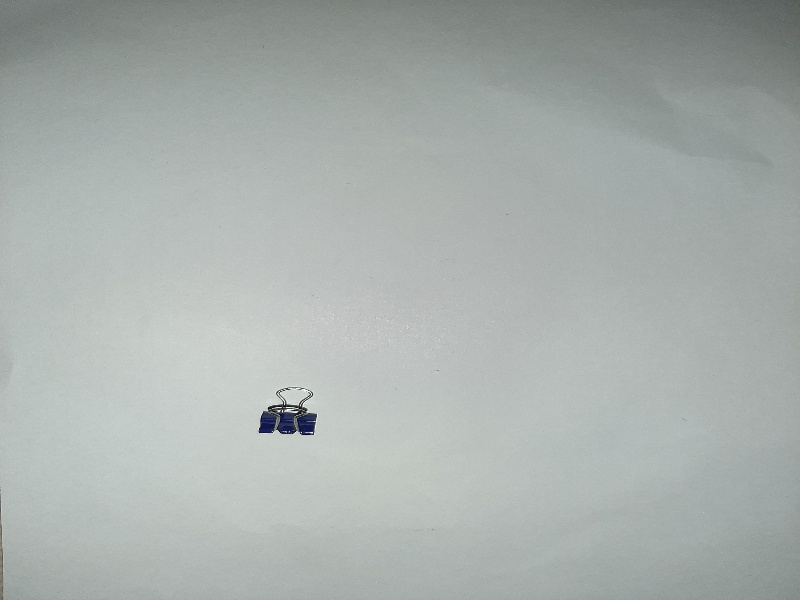Small Paperclip: (252, 380, 325, 446)
